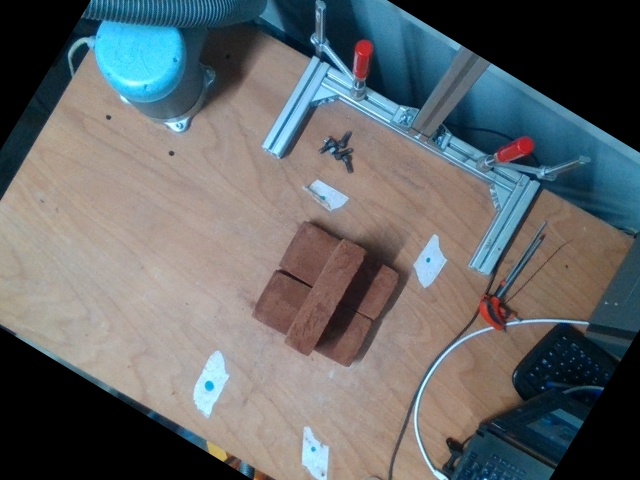brick-side: (282, 237, 367, 358)
